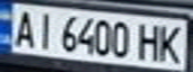0: (112, 18, 136, 58), (93, 16, 115, 57)
4: (75, 15, 96, 55)
6: (54, 12, 81, 53)
A: (9, 7, 39, 48)
H: (133, 19, 163, 62)
I: (30, 9, 57, 51)
K: (154, 21, 187, 64)
